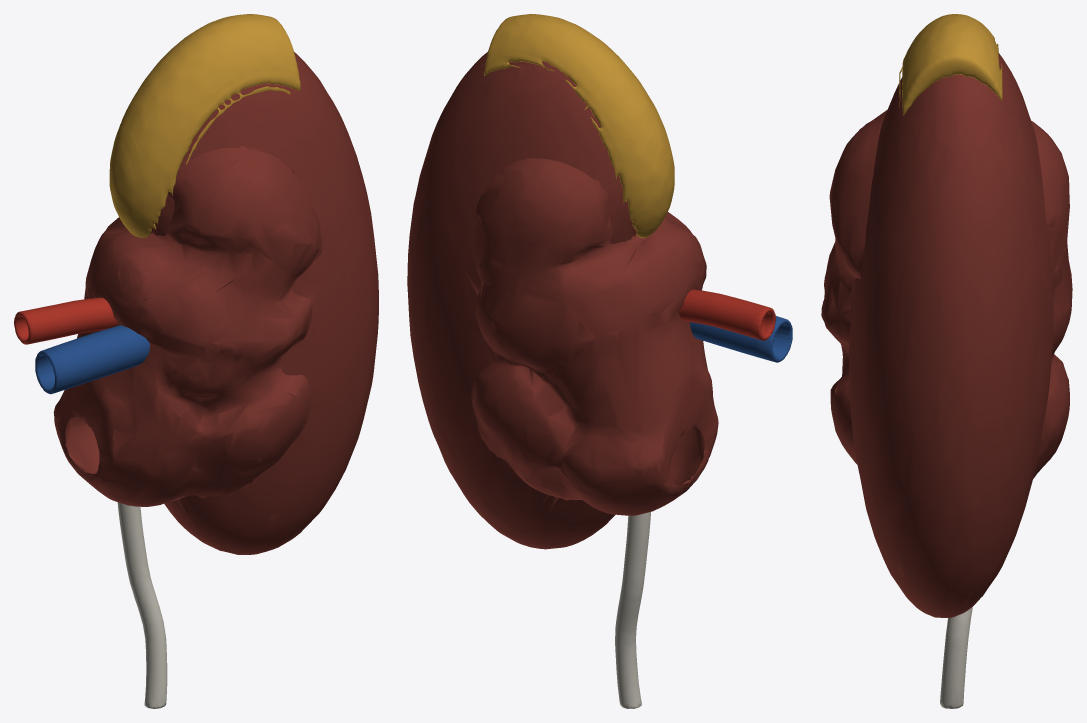
Rendered from kidney_hydro_4.glb.
The picture shows the model from 3 angles, left to right: view 1: azimuth 30°, elevation 25°; view 2: azimuth 150°, elevation 25°; view 3: azimuth 270°, elevation 25°; orthographic projection. The views are drawn at different scales.
Parts seen in each view (by area): view 1: kidney_body, adrenal_gland, renal_vein, ureter, renal_artery; view 2: kidney_body, adrenal_gland, ureter, renal_artery, renal_vein; view 3: kidney_body, adrenal_gland, ureter.
Part boxes in pixels (x1,y1,x2,y2): kidney_body: (53, 52, 378, 554); adrenal_gland: (109, 14, 300, 238); renal_vein: (35, 325, 149, 394); ureter: (117, 502, 167, 708); renal_artery: (14, 297, 117, 344); kidney_body: (407, 52, 718, 549); adrenal_gland: (484, 14, 674, 237); ureter: (615, 512, 650, 708); renal_artery: (679, 289, 775, 340); renal_vein: (689, 316, 792, 362); kidney_body: (821, 53, 1072, 617); adrenal_gland: (899, 14, 1002, 115); ureter: (940, 607, 972, 708).
Bounding box in the file's own units: 7.85 × 14.23 × 4.48.
